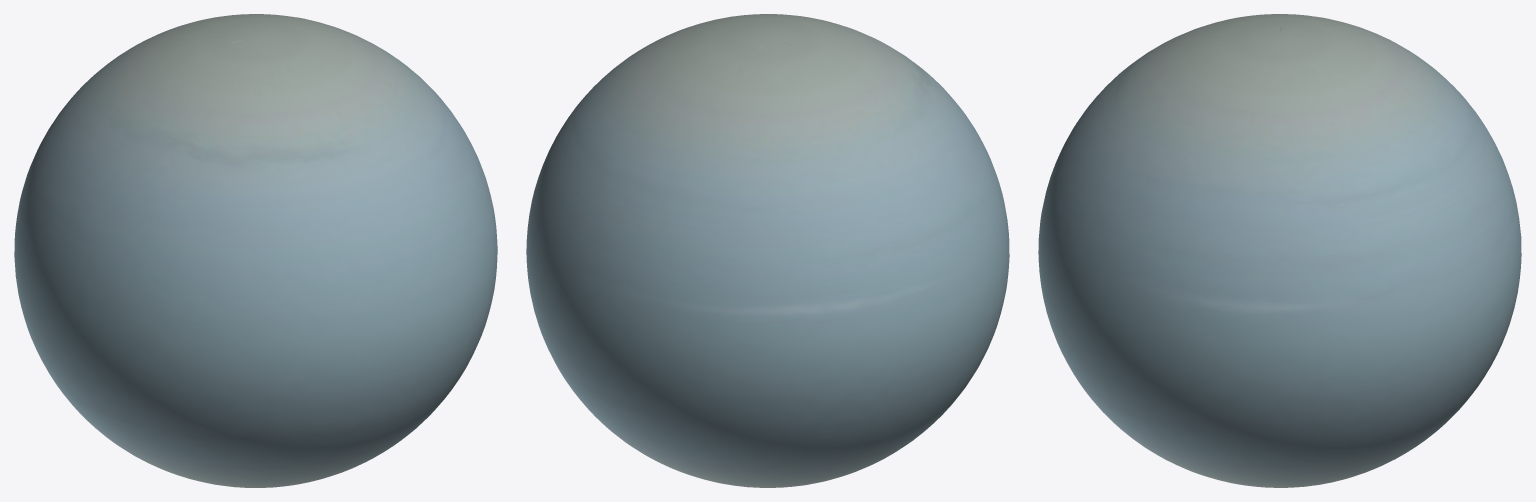
Rendered from uranus.glb.
3 renders of one model, left to right at view 1: azimuth 30°, elevation 25°; view 2: azimuth 150°, elevation 25°; view 3: azimuth 270°, elevation 25°, orthographic.
Parts seen in each view (by area): view 1: Uranus_surface_Uranus; view 2: Uranus_surface_Uranus; view 3: Uranus_surface_Uranus.
Part boxes in pixels (x1,y1,x2,y2): Uranus_surface_Uranus: (14,14,497,487); Uranus_surface_Uranus: (526,14,1009,487); Uranus_surface_Uranus: (1038,14,1521,487).
Size of the model in its own units: 2 by 1.95 by 2.
Materials: 1 (1 with a texture image).
